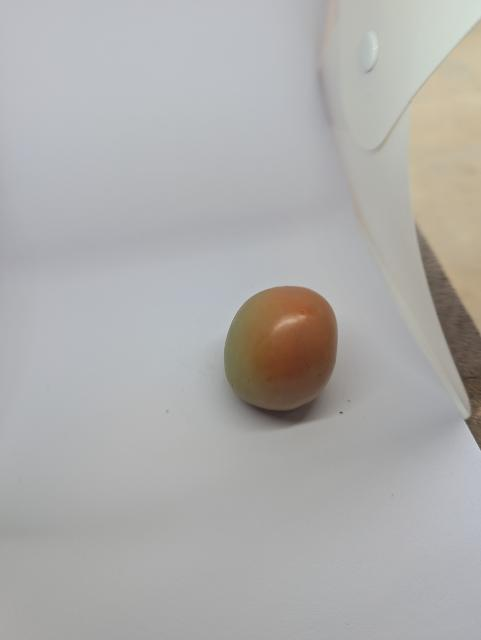turning: (213, 275, 350, 419)
